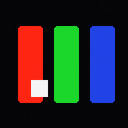1 square: (31, 80, 47, 96)
